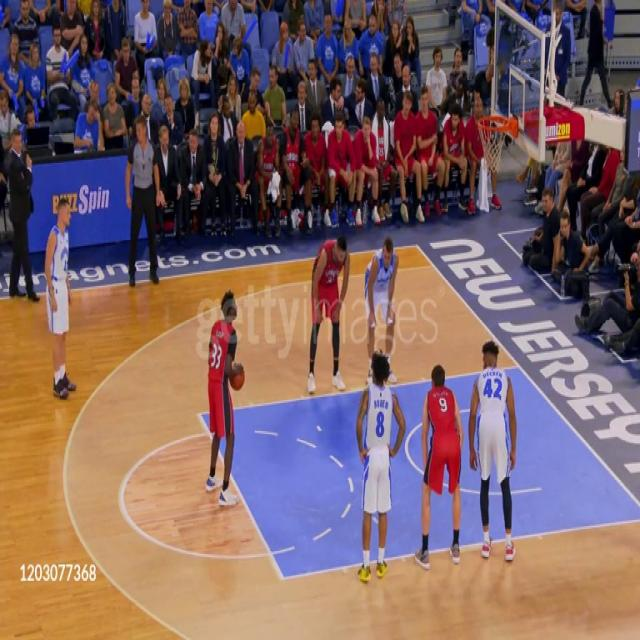ball: (229, 360, 246, 391)
